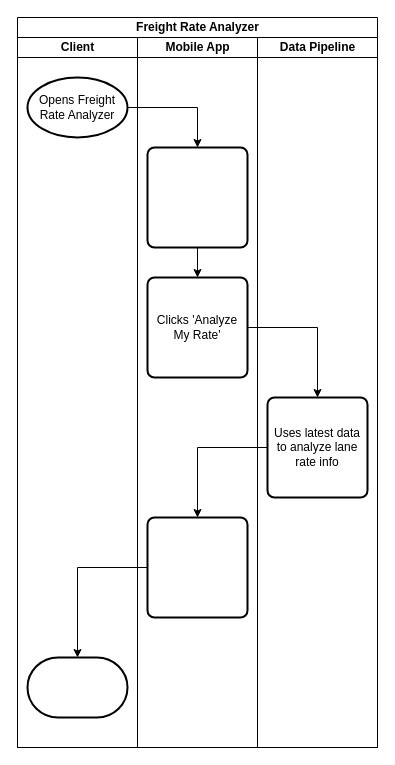
This 395x765 diagram has some shape labels left out. The shapes that lost their labels are listed below. From the top down, each one's centre as x and y in pixels, then its label:
[197,197]: User inputs: -Truck type -Rate -Origin -Destination
[197,567]: Displays results from Data Pipeline
[77,687]: Accepts rate or negotiates for more
